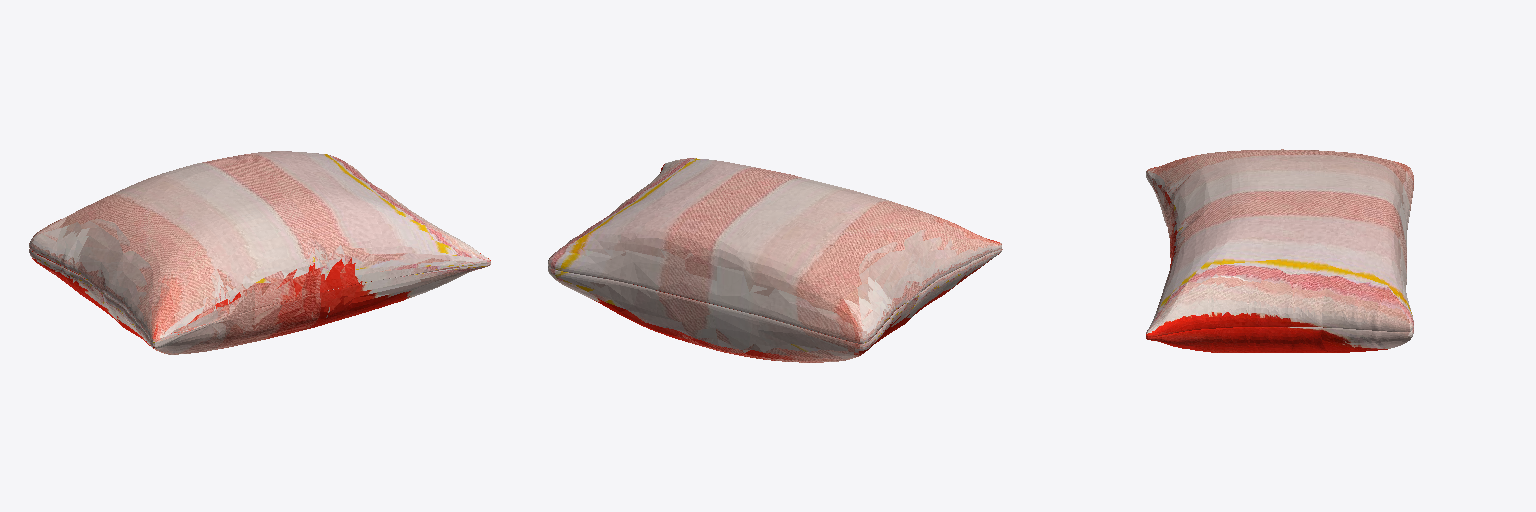
3 views of the same model, side by side, from view 1: azimuth 30°, elevation 25°; view 2: azimuth 150°, elevation 25°; view 3: azimuth 270°, elevation 25° (orthographic).
Visible parts, largest first — view 1: mesh1_mesh1-geometry; view 2: mesh1_mesh1-geometry; view 3: mesh1_mesh1-geometry.
Boxes of the visible parts, box(x1,y1,x2,y2) form: mesh1_mesh1-geometry: box(29, 151, 490, 354); mesh1_mesh1-geometry: box(548, 158, 1002, 362); mesh1_mesh1-geometry: box(1146, 149, 1413, 352).
Bounding box in the file's own units: 0.7899 × 0.2851 × 0.5429.
1 materials, 1 textured.